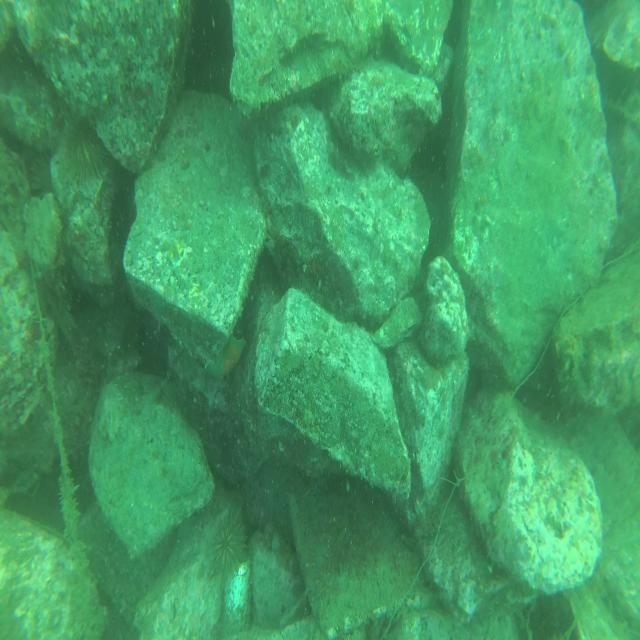echinus: (59, 114, 110, 191), (211, 504, 251, 582)
starfish: (206, 332, 247, 384)
